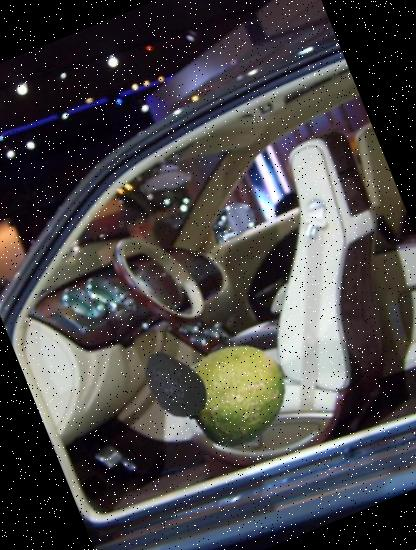Avocado: (125, 335, 223, 433)
Limes: (168, 324, 307, 463)
